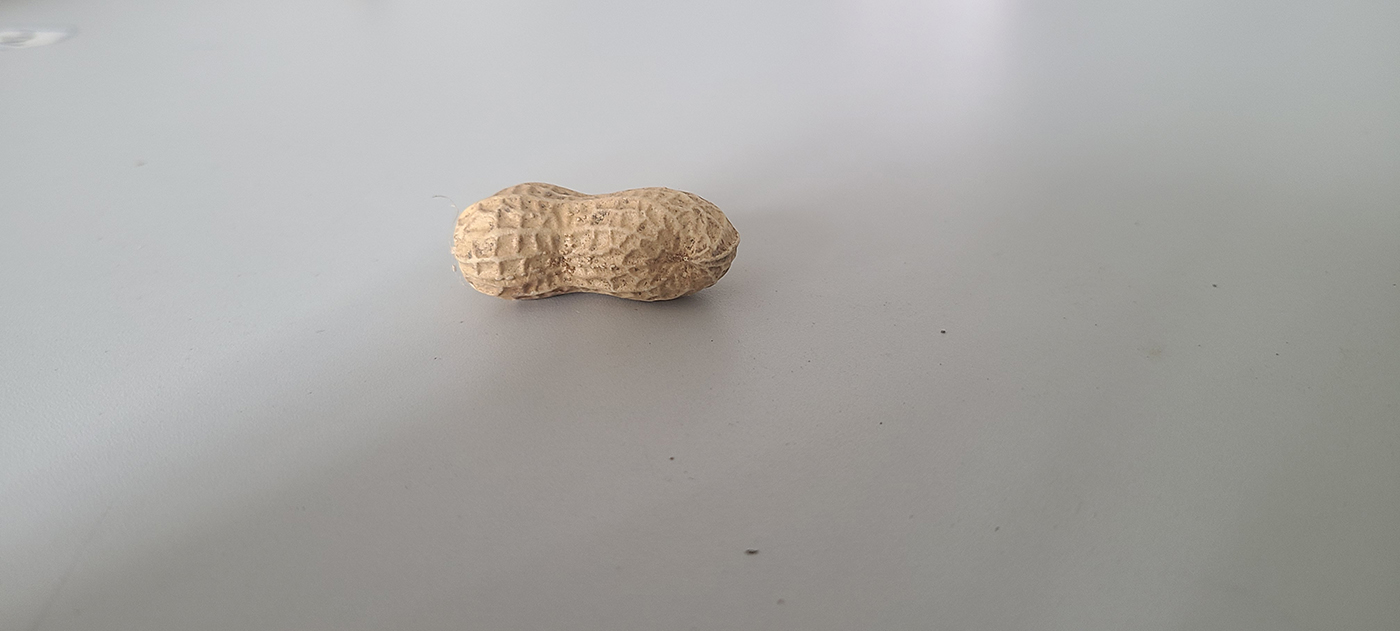h: (452, 181, 741, 303)
